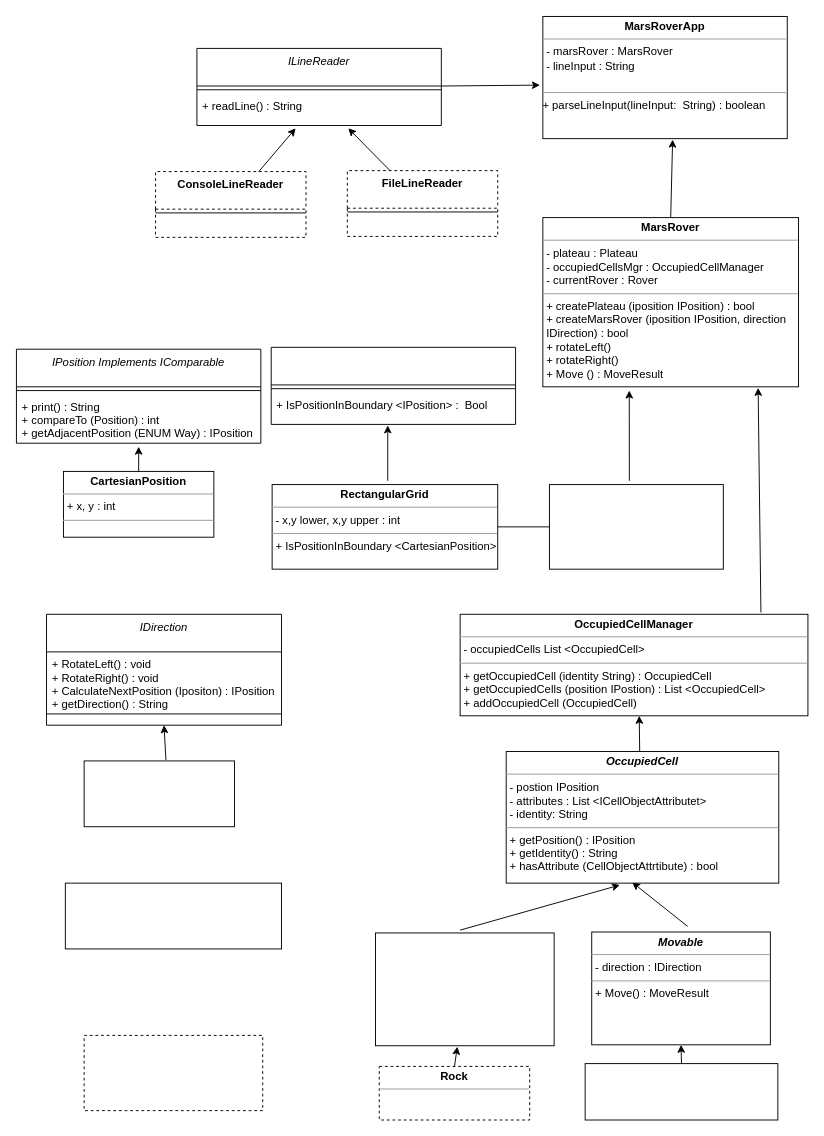
The diagram is 824 pixels wide and 1136 high, and some of its shapes have lost their labels. The box of each missing label's shape, as (x1, y1, x2, y2) in pixels:
CompassDirection - direction ENUM N, S E W: (83, 760, 235, 827)
IMarsObjectAttribute: (83, 1034, 263, 1111)
IShapeGrid: (270, 346, 516, 424)
MarsRover: (584, 1063, 778, 1120)
MoveResult ENUM OK, BLOCKED, OUT_OF_ BOUNDARY: (64, 882, 282, 949)
Plateau - grid : IShapeGrid: (548, 484, 723, 569)
Static: (375, 932, 554, 1046)
